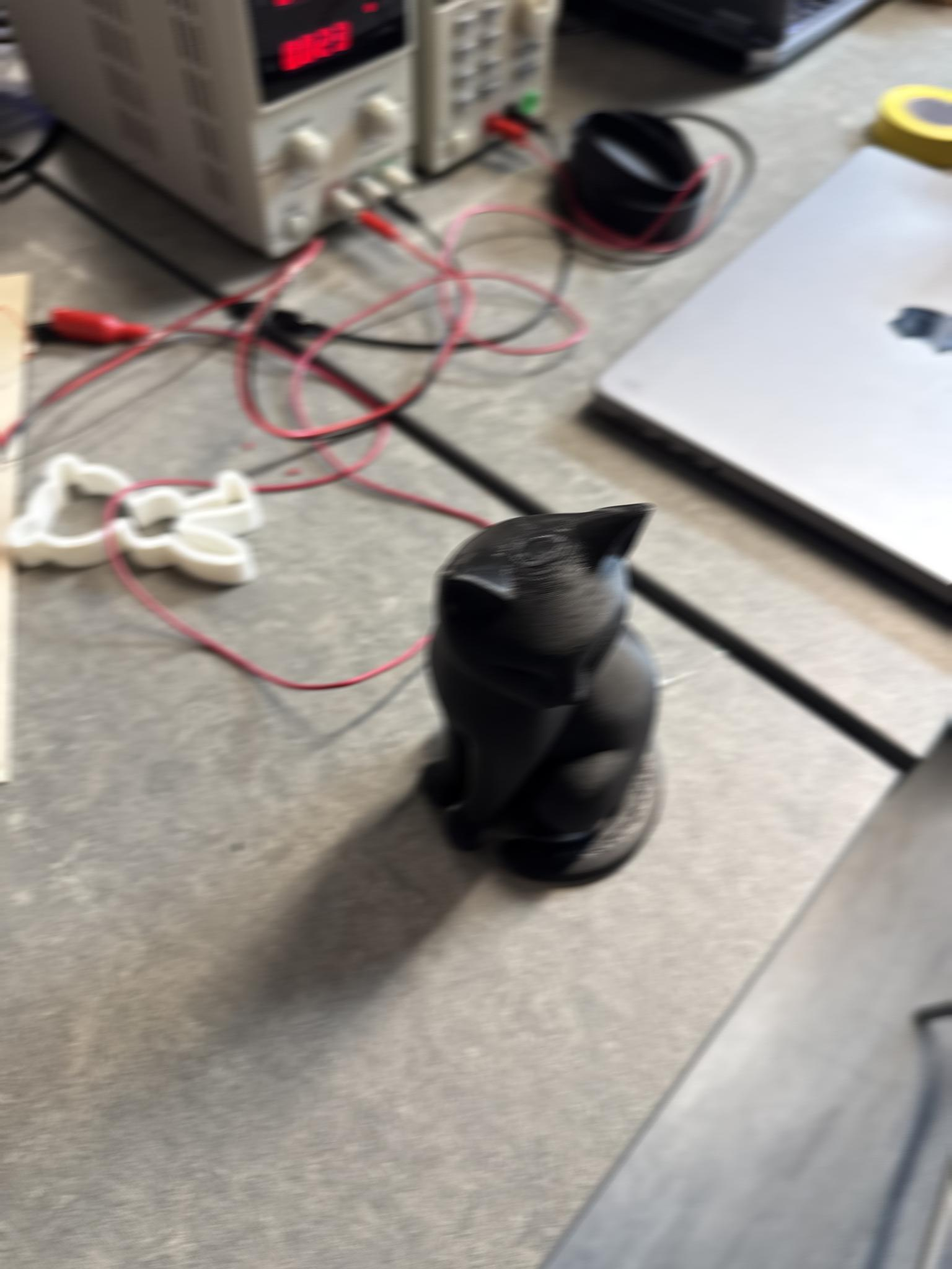cat: (417, 502, 663, 885)
